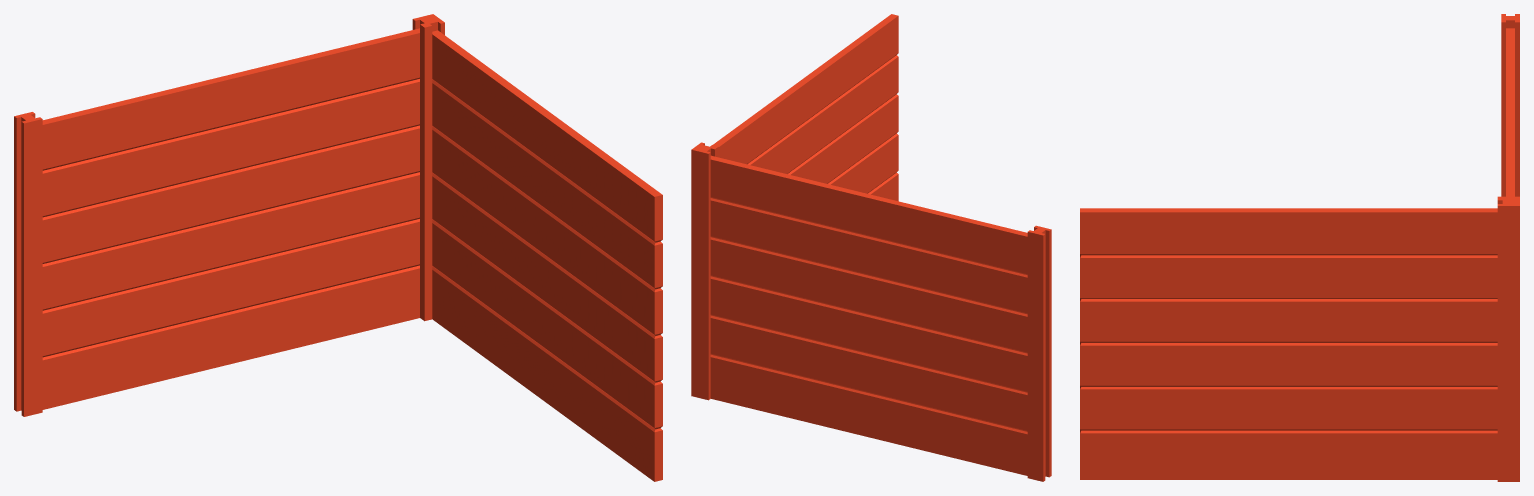
The model's file is SM_Fence_Industrial_Corner_3m_City.fbx.
3 renders of one model, left to right at view 1: azimuth 30°, elevation 25°; view 2: azimuth 150°, elevation 25°; view 3: azimuth 270°, elevation 25°, orthographic. The views are drawn at different scales.
Parts seen in each view (by area): view 1: SM_Fence_Industrial_Corner_3m_City; view 2: SM_Fence_Industrial_Corner_3m_City; view 3: SM_Fence_Industrial_Corner_3m_City.
Part boxes in pixels (left/top/right/bottom): SM_Fence_Industrial_Corner_3m_City: left=14, top=14, right=662, bottom=481; SM_Fence_Industrial_Corner_3m_City: left=691, top=14, right=1051, bottom=481; SM_Fence_Industrial_Corner_3m_City: left=1080, top=14, right=1519, bottom=481.
Bounding box in the file's own units: 3.13 × 2.1 × 3.03.
